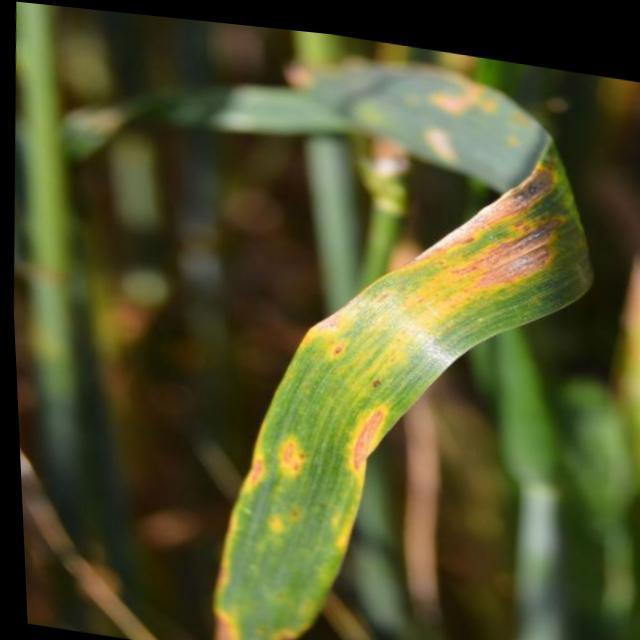Septoria: (162, 52, 592, 639)
